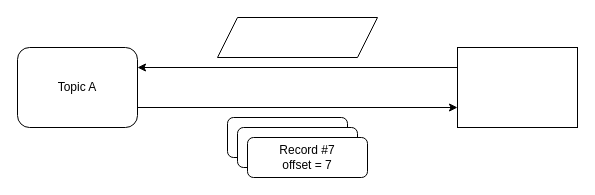
The diagram is 595 pixels wide and 195 high, and some of its shapes have lost their labels. Here are the shapes that lost their labels. From the top down, the centre of each, then its label:
At pixel 297 37: "Request records offset = 7".
At pixel 517 87: "Consumer".
